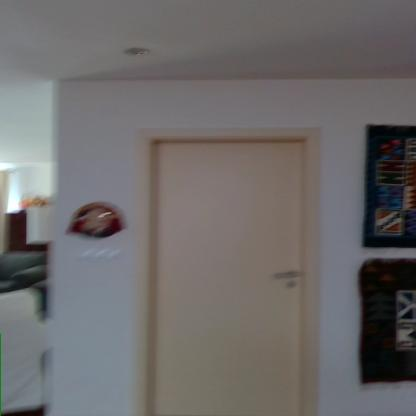closed: (132, 115, 336, 415)
